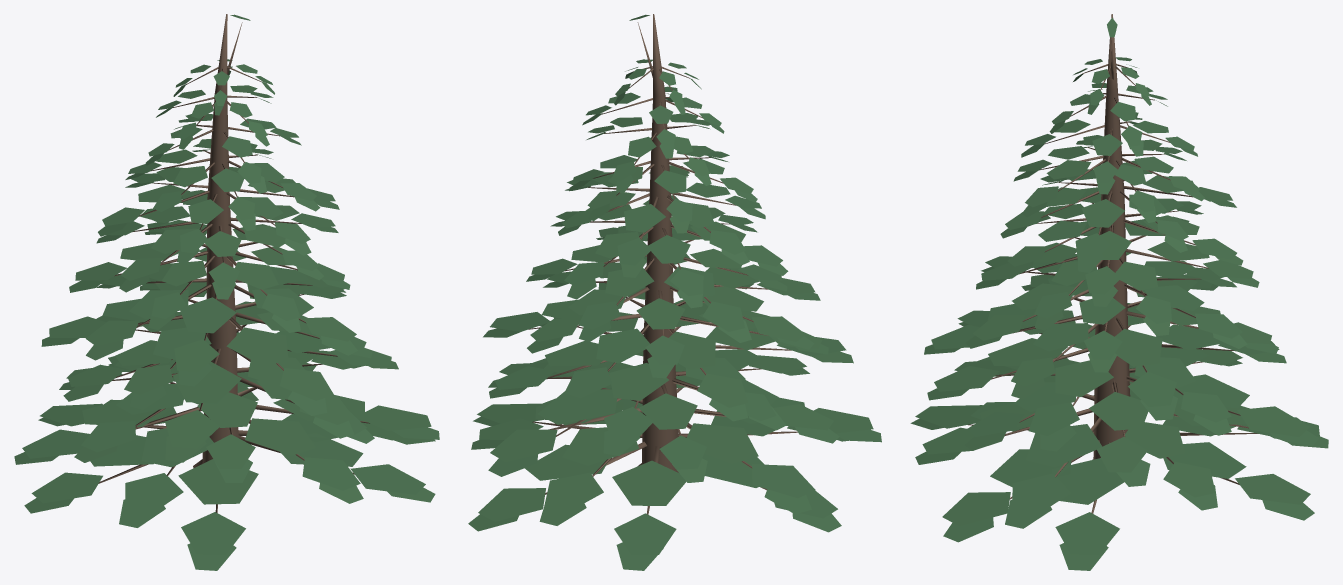
The model's file is hemlock-full-lod1.glb.
3 views of the same model, side by side, from view 1: azimuth 30°, elevation 25°; view 2: azimuth 150°, elevation 25°; view 3: azimuth 270°, elevation 25° (orthographic).
Visible parts, largest first — view 1: tree_hemlock-full_LOD1; view 2: tree_hemlock-full_LOD1; view 3: tree_hemlock-full_LOD1.
Part boxes in pixels (left/top/right/bottom): tree_hemlock-full_LOD1: left=14, top=14, right=439, bottom=570; tree_hemlock-full_LOD1: left=468, top=14, right=881, bottom=570; tree_hemlock-full_LOD1: left=910, top=14, right=1328, bottom=570.
Bounding box in the file's own units: 12.25 × 14.04 × 11.49.
